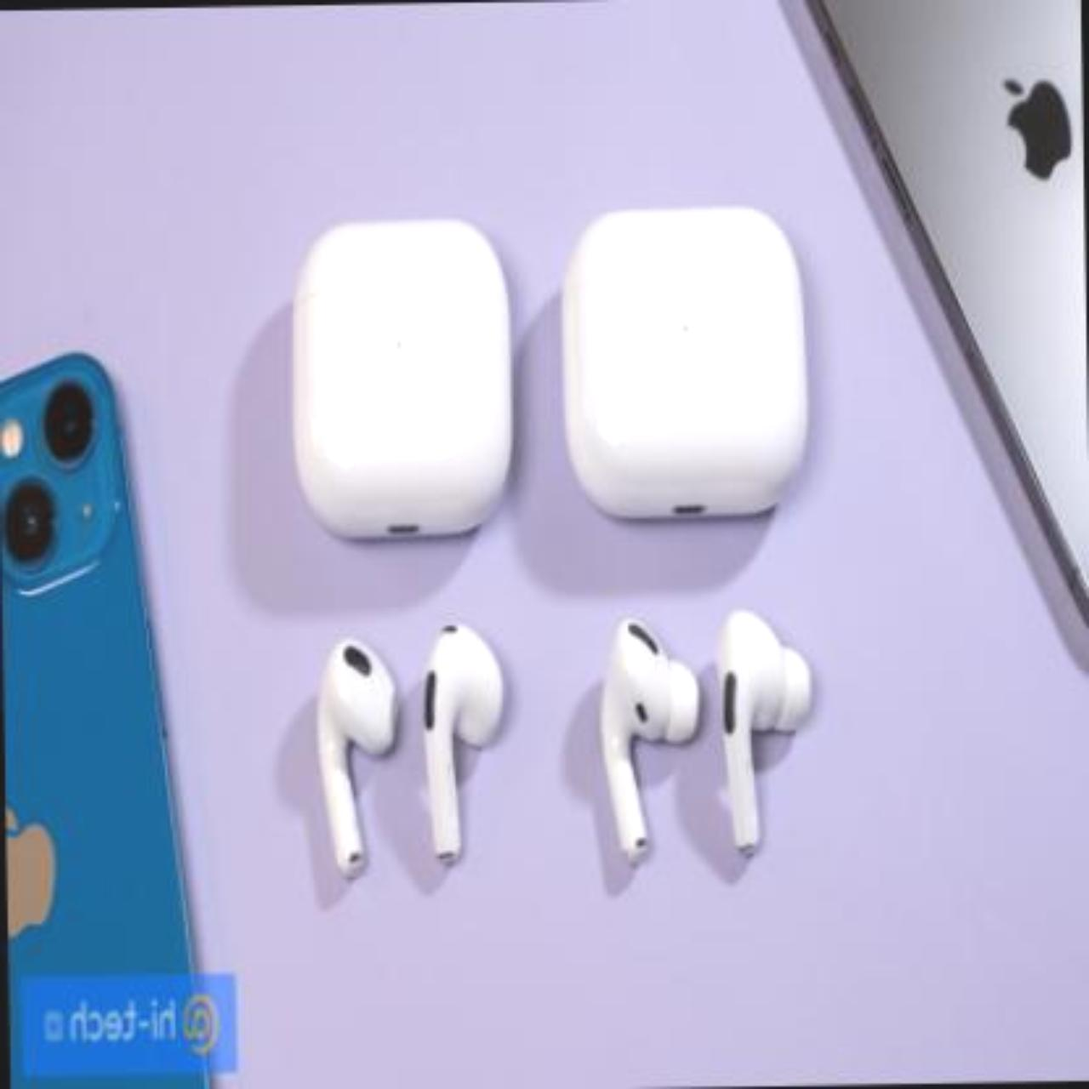Airpods_Units: (704, 608, 819, 874), (593, 605, 692, 864), (418, 621, 511, 867), (321, 633, 402, 874)
